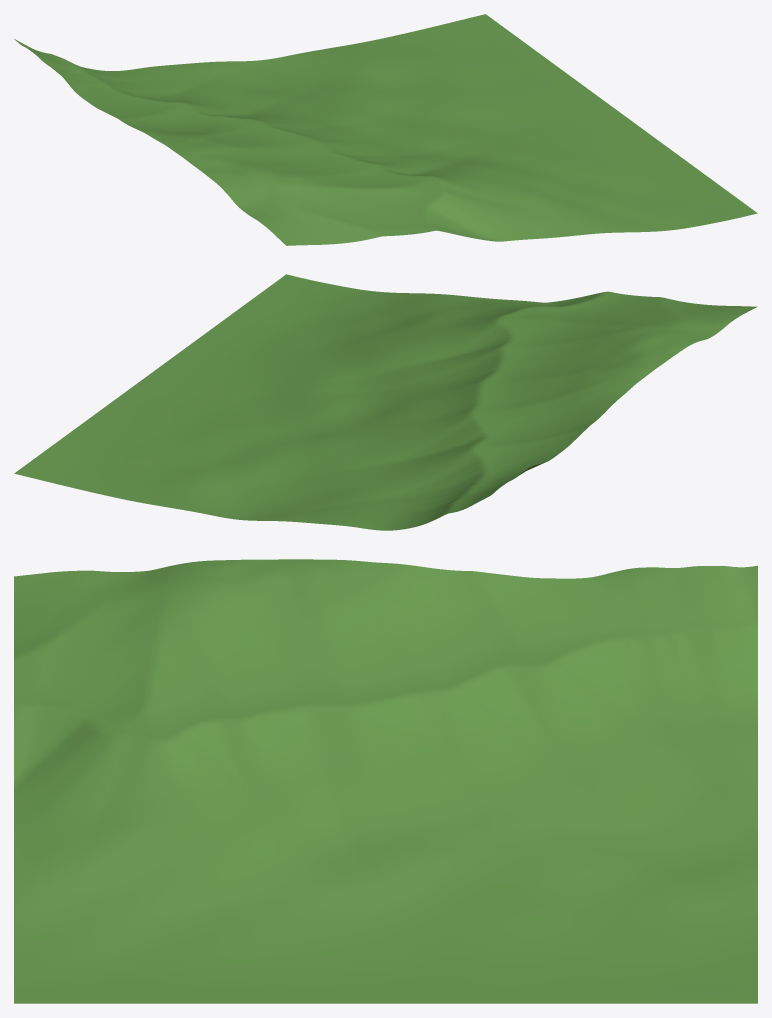
The model's file is SM_Terrain_07_03.fbx.
3 renders of one model, top to bottom at view 1: azimuth 30°, elevation 25°; view 2: azimuth 150°, elevation 25°; view 3: azimuth 270°, elevation 25°, orthographic. The views are drawn at different scales.
Parts seen in each view (by area): view 1: SM_Terrain_07_03; view 2: SM_Terrain_07_03; view 3: SM_Terrain_07_03.
Part boxes in pixels (left/top/right/bottom): SM_Terrain_07_03: left=14, top=14, right=757, bottom=245; SM_Terrain_07_03: left=14, top=274, right=757, bottom=530; SM_Terrain_07_03: left=14, top=559, right=757, bottom=1003.
Size of the model in its own units: 384 by 74.37 by 384.
